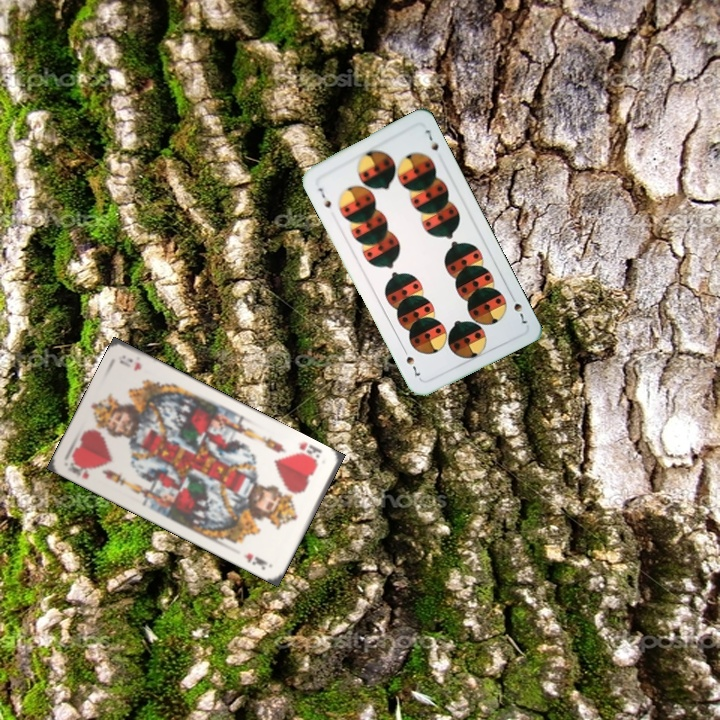HK: (293, 438, 325, 466), (64, 455, 94, 481)
S7: (506, 290, 529, 326), (314, 184, 334, 210)
